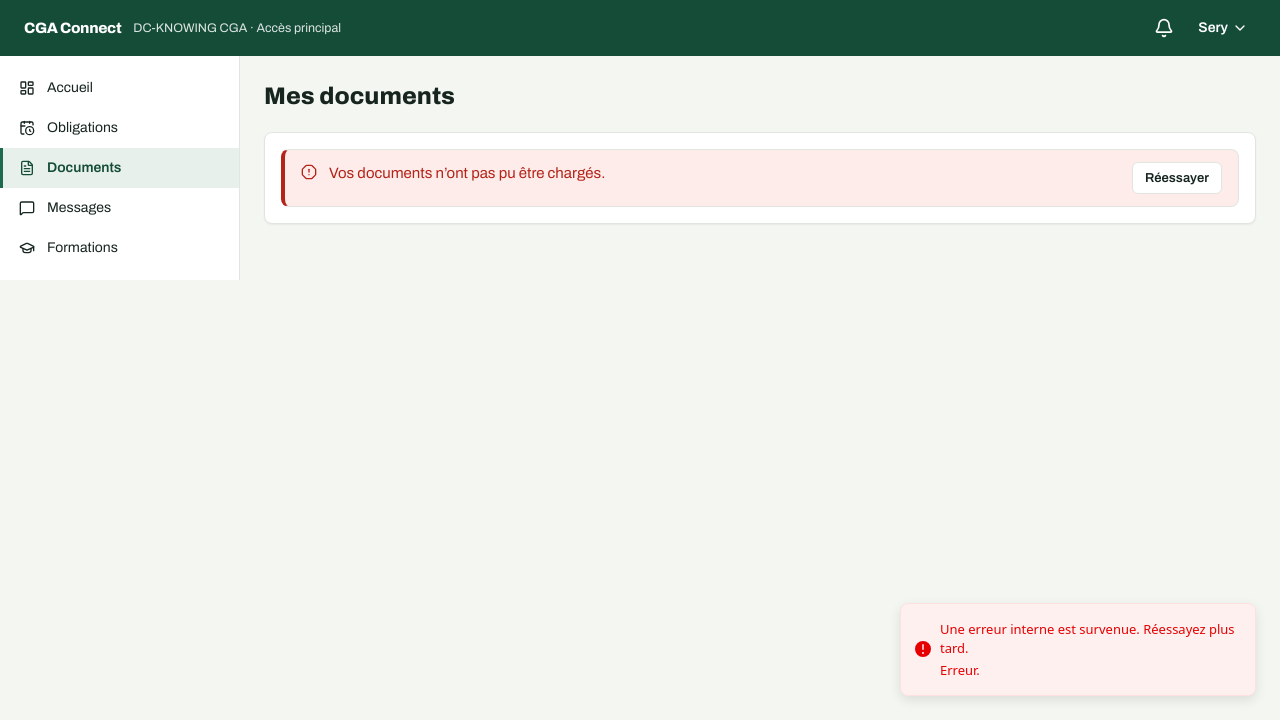
Scenario: /adherent/documents (3.10, RG-DOC-04) › panne : bandeau et « Réessayer »
Expected: the text "Vos documents n’ont pas pu être chargés." is shown, [329, 165, 605, 181]
What coordinates should you click on to do the following:
click the button "Réessayer"
I would click on:
 (1177, 178)
Its box is [1132, 162, 1222, 194].
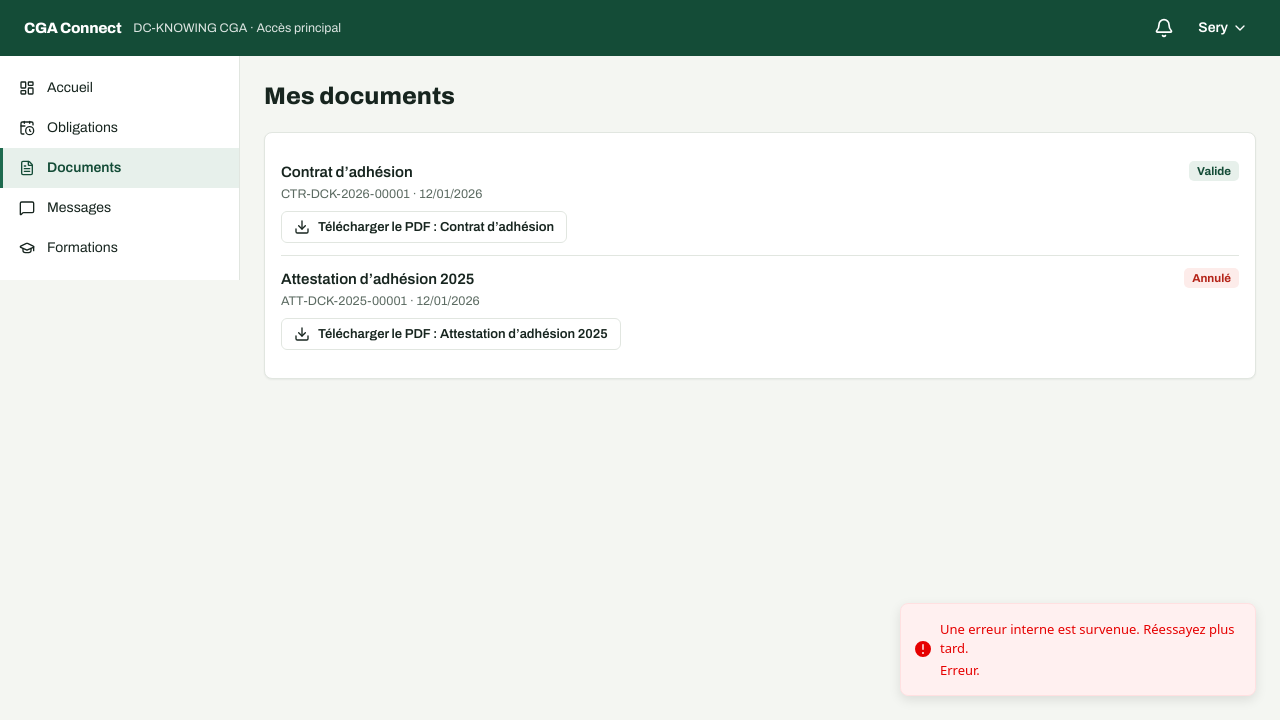
Expected: the list named "Mes documents" is shown, [281, 149, 1239, 362]
